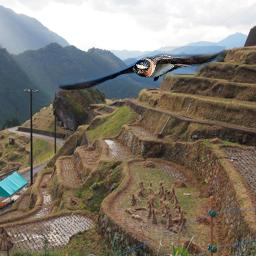Swallow: (57, 46, 226, 90)
